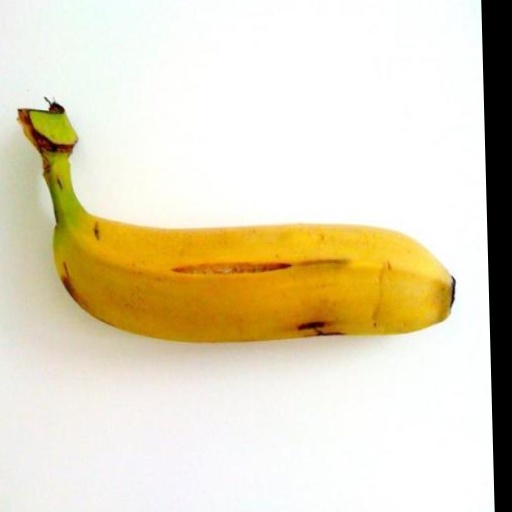fruit: (18, 103, 453, 341)
